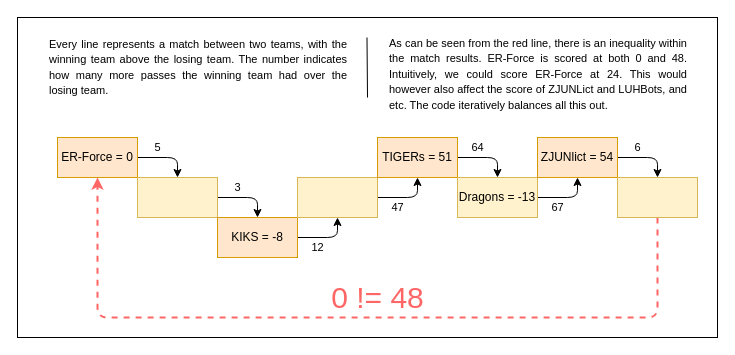
The diagram is 735 pixels wide and 355 high, and some of its shapes have lost their labels. The box of each missing label's shape, as (x1, y1, x2, y2) in pixels:
ER-Force= 48: (616, 176, 698, 218)
LUHBots = -5: (136, 176, 218, 218)
RTT = 4: (296, 176, 378, 218)
